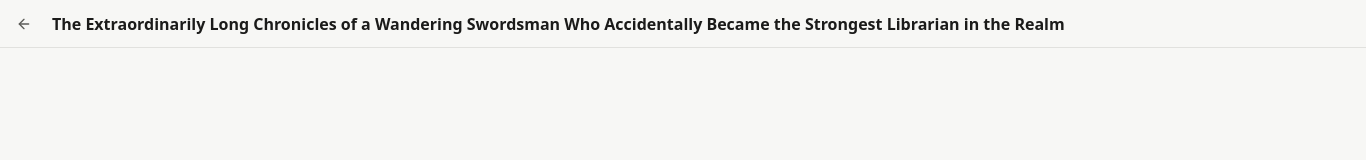
screen header title › shows the full truncated title in the Hint on hover and on Tab
Hover over the heading named "The Extraordinarily Long Chronicles of a Wandering Swordsman Who Accidentally Became the Strongest Librarian in the Real" at [558, 24], box x1=52 y1=12 x2=1065 y2=34
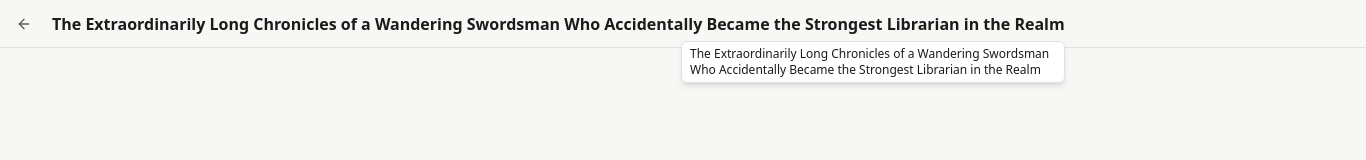
Check: the tooltip shows "The Extraordinarily Long Chronicles of a Wandering Swordsman Who Accidentally Became the Strongest Librarian in the Realm", box x1=690 y1=45 x2=1049 y2=78
Move the pointer off the heading named "The Extraordinarily Long Chronicles of a Wandering Swordsman Who Accidentally Became the Strongest Librarian in the Real", box x1=52 y1=12 x2=1065 y2=34
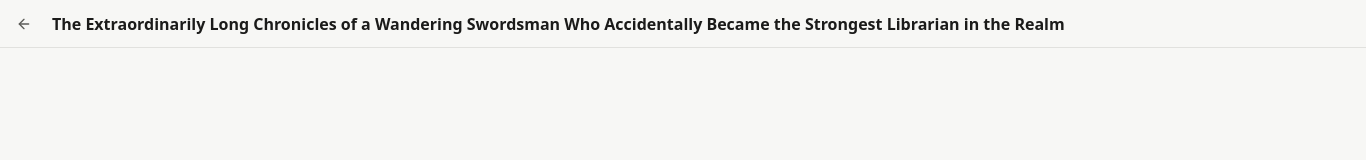
Press Escape
Press Tab
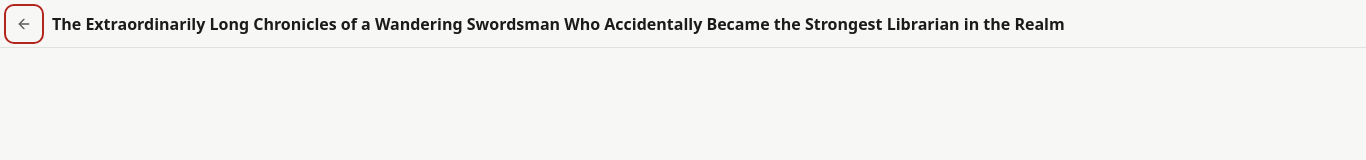
Press Tab
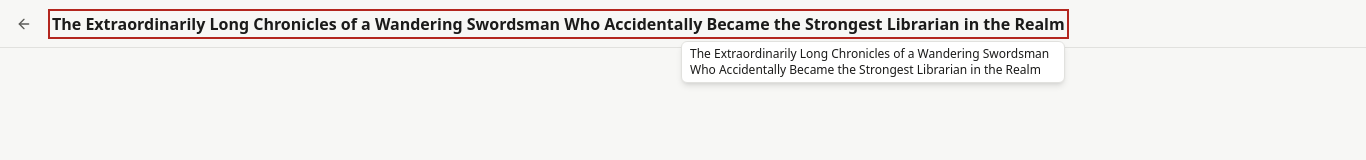
Check: the tooltip shows "The Extraordinarily Long Chronicles of a Wandering Swordsman Who Accidentally Became the Strongest Librarian in the Realm", box x1=690 y1=45 x2=1049 y2=78
